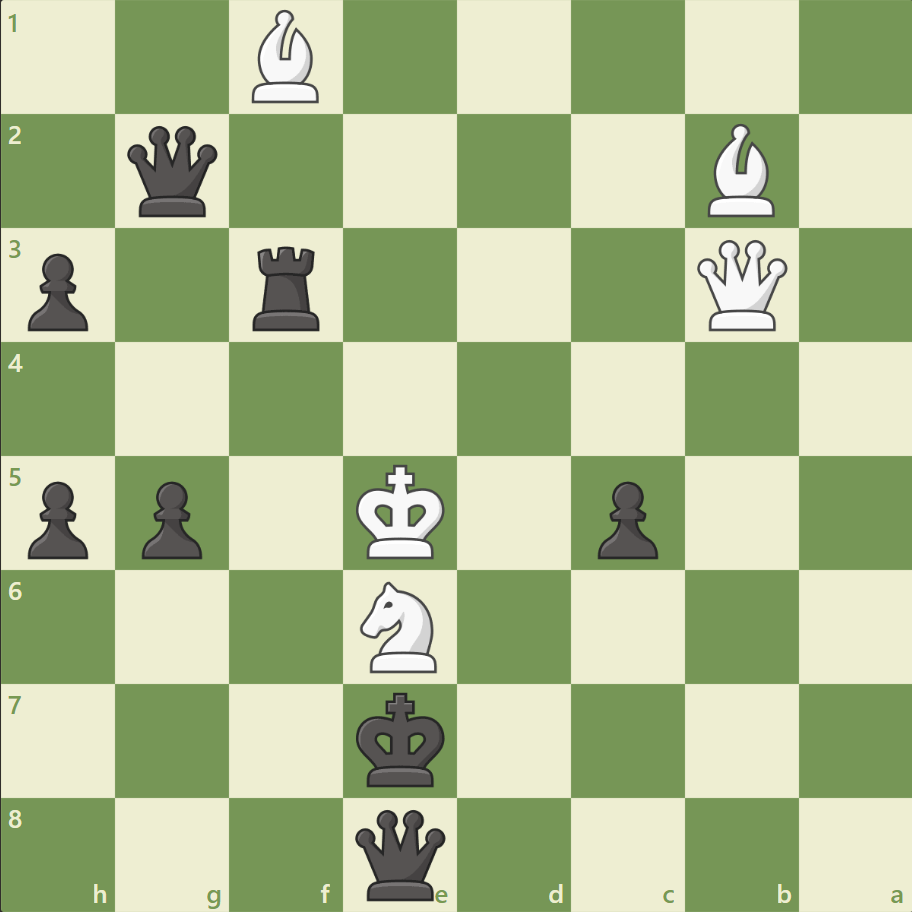B: (244, 6, 328, 109), (698, 120, 782, 222)
K: (351, 458, 451, 566)
N: (351, 575, 449, 677)
Q: (691, 236, 790, 335)
k: (351, 685, 451, 793)
p: (133, 473, 208, 564), (20, 473, 95, 564), (20, 246, 95, 337), (588, 473, 662, 564)
q: (124, 122, 223, 222), (351, 804, 450, 903)
r: (246, 239, 329, 336)
